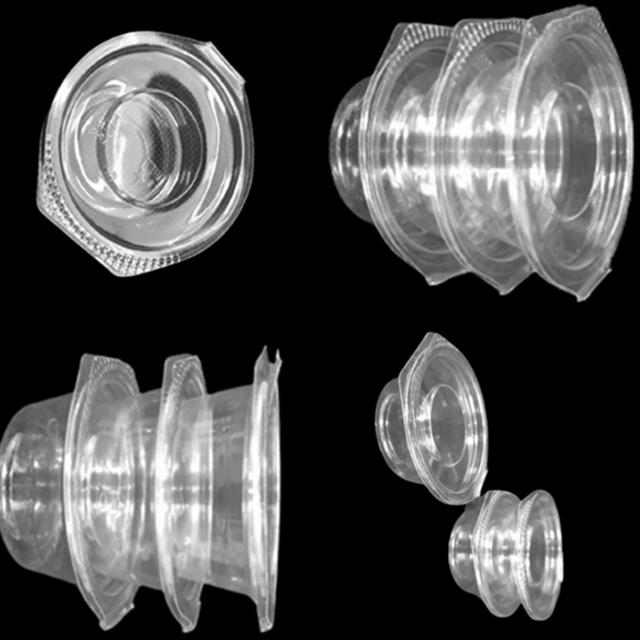plastik: (449, 4, 633, 298), (37, 31, 253, 275), (0, 353, 138, 629), (329, 22, 467, 284), (80, 353, 206, 630), (173, 347, 282, 629), (375, 332, 487, 503), (449, 490, 521, 614), (515, 488, 564, 620)
